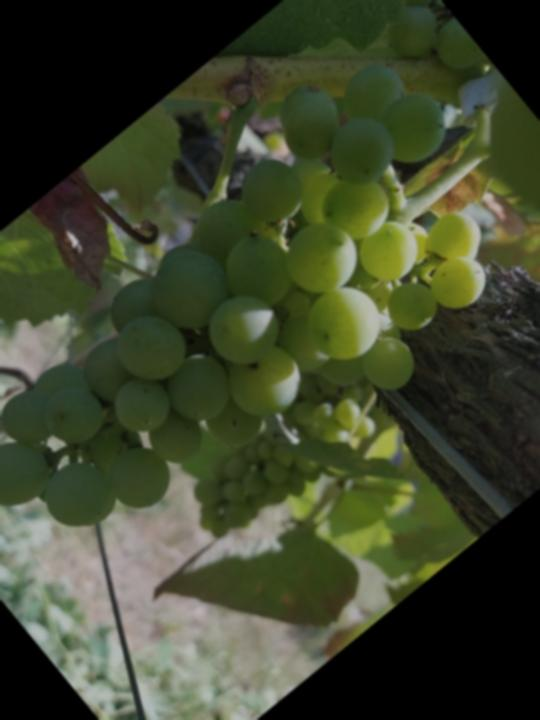grape: (0, 20, 540, 638)
